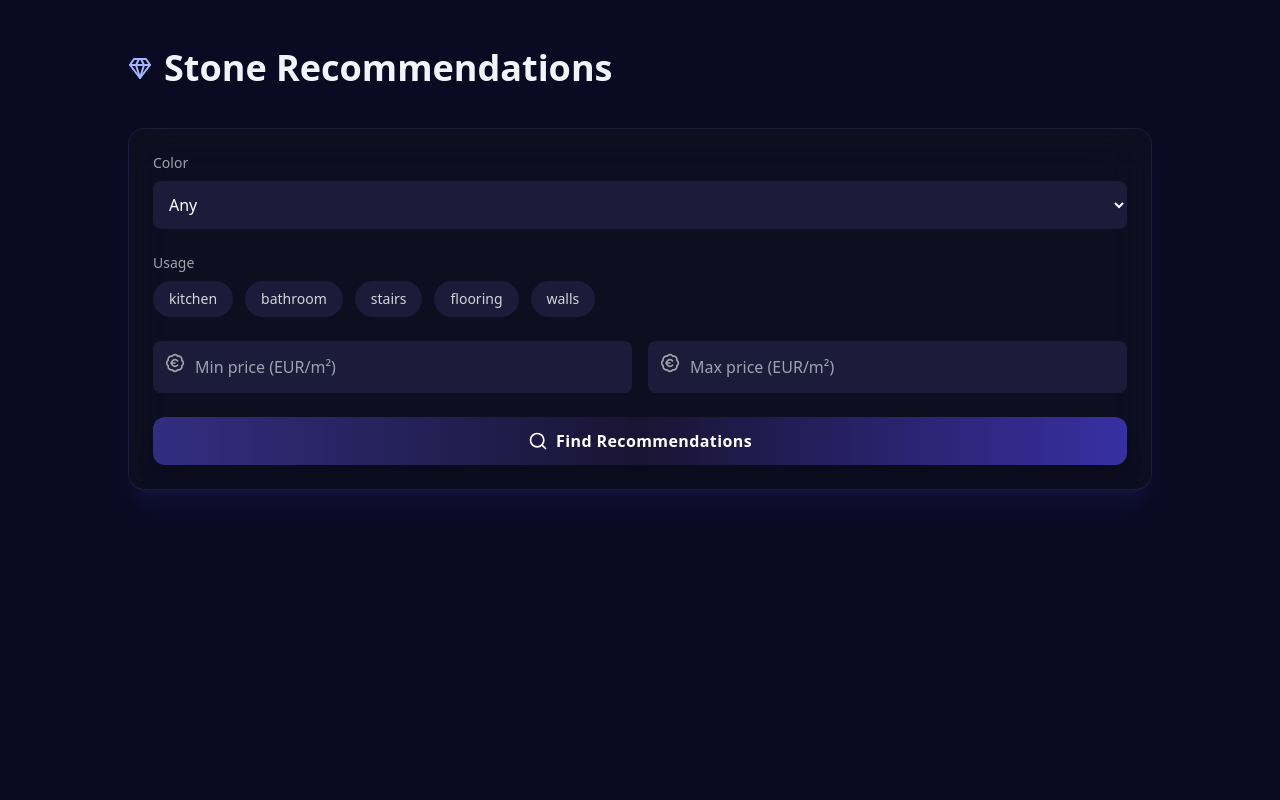
Test case: RecommendationsPage › renders filters and fetches recommendations
Step 1. Click the button "Find Recommendations" → (640, 441), box [153,417,1127,465]
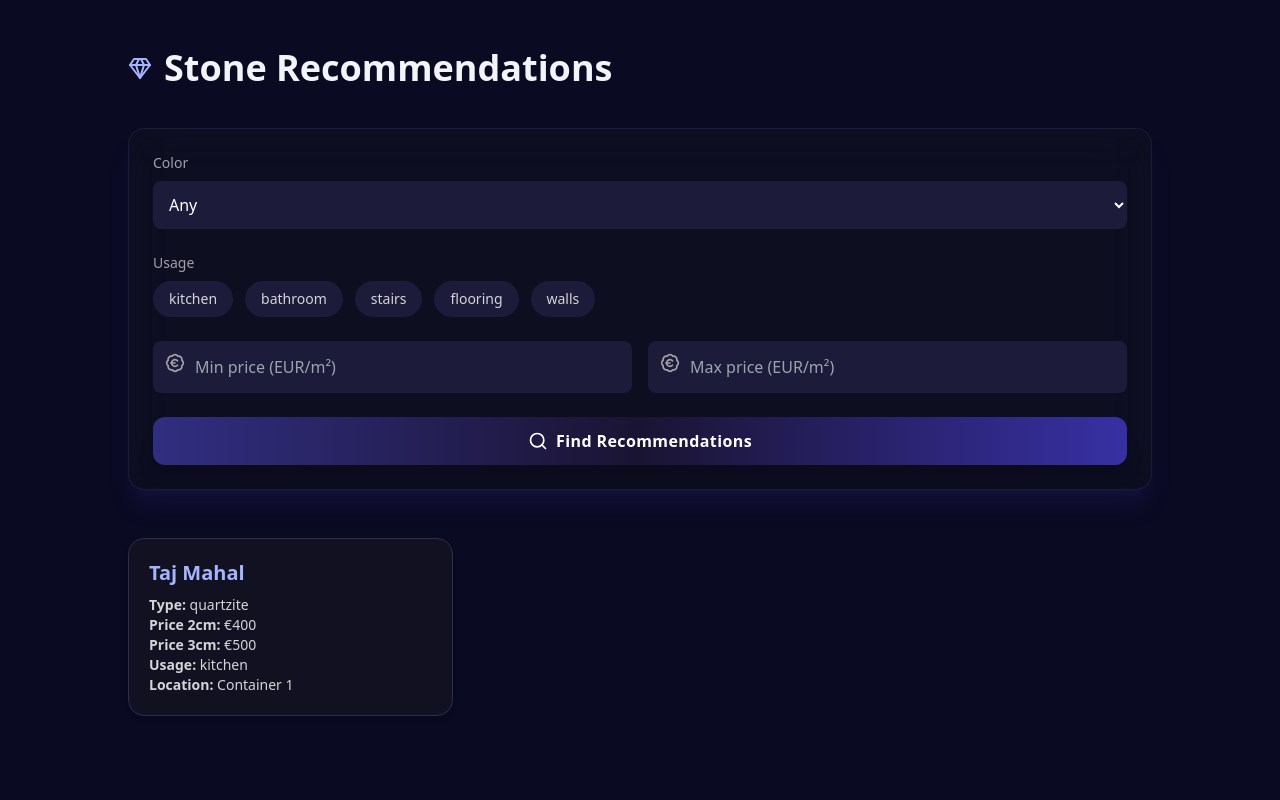
Expected: the text "kitchen" is shown, [169,289,217,308]
Expected: the heading "Taj Mahal" is shown, [149,559,245,586]
Expected: the text "Price 2cm: €400" is shown, [149,615,256,634]
